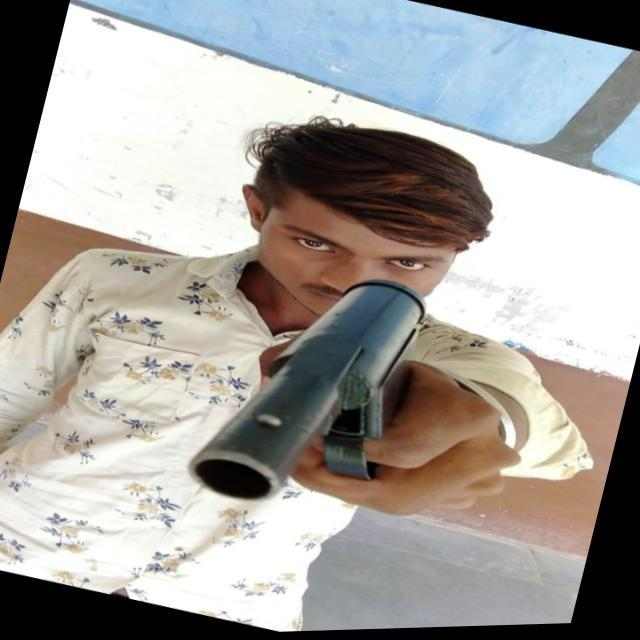weapon: (173, 236, 484, 556)
